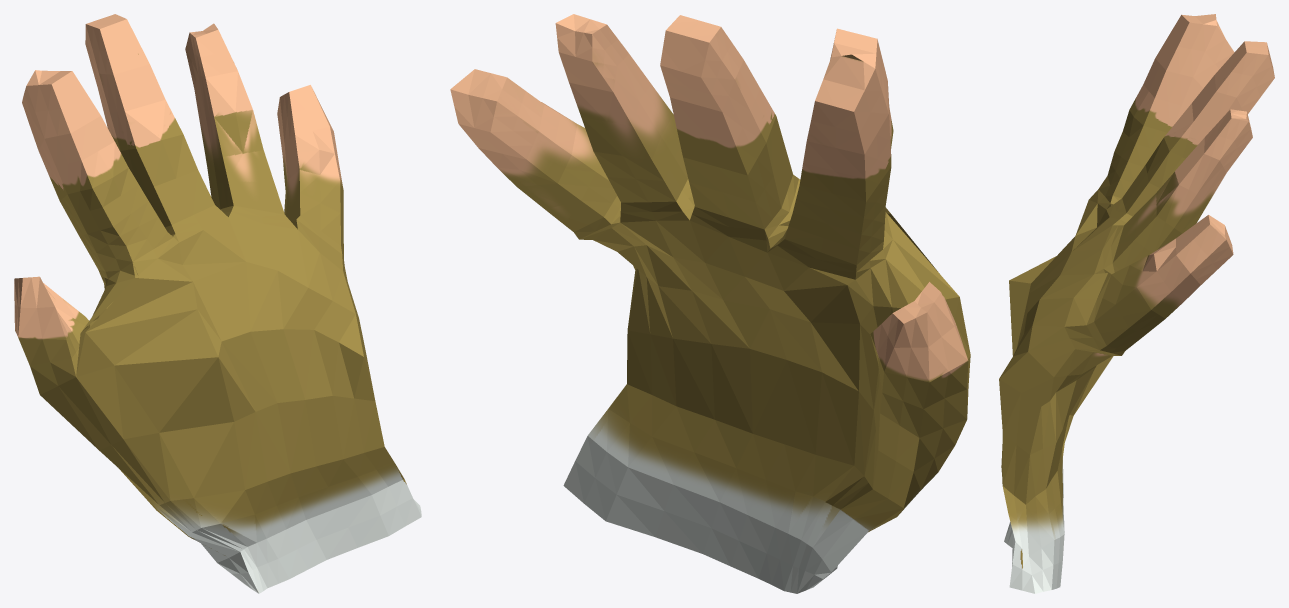
Rendered from flexion0020.obj.
3 views of the same model, side by side, from view 1: azimuth 30°, elevation 25°; view 2: azimuth 150°, elevation 25°; view 3: azimuth 270°, elevation 25° (orthographic). The views are drawn at different scales.
Visible parts, largest first — view 1: Hand; view 2: Hand; view 3: Hand.
Boxes of the visible parts, box(x1,y1,x2,y2) form: Hand: box(14, 14, 421, 593); Hand: box(450, 14, 970, 593); Hand: box(999, 14, 1274, 593).
Bounding box in the file's own units: 3.27 × 4.45 × 2.29.
